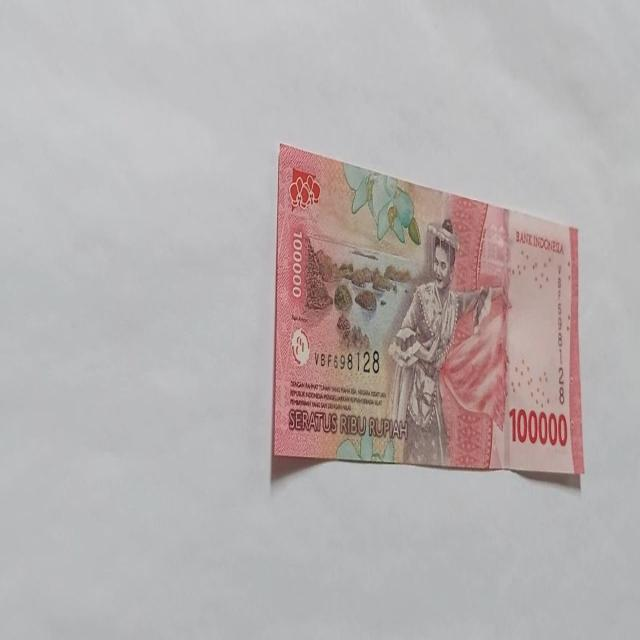Kertas: (270, 142, 584, 486), (508, 405, 568, 448)
